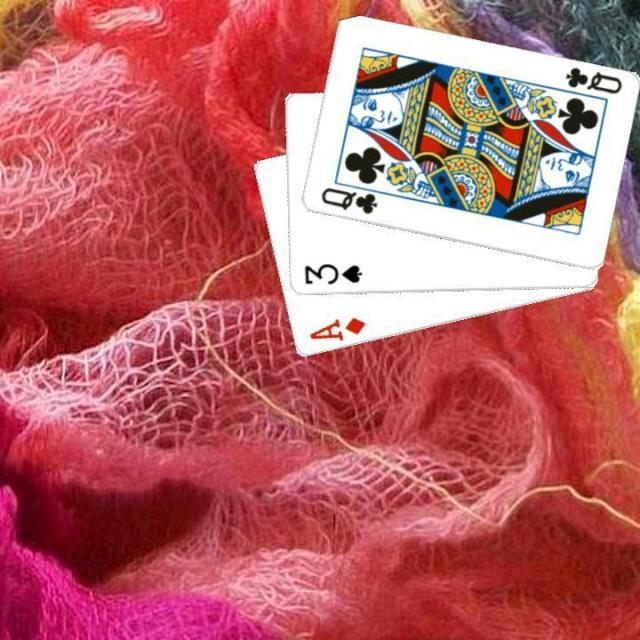3S: (300, 260, 364, 288)
AD: (305, 314, 367, 344)
QC: (561, 63, 624, 97), (316, 184, 379, 217)
